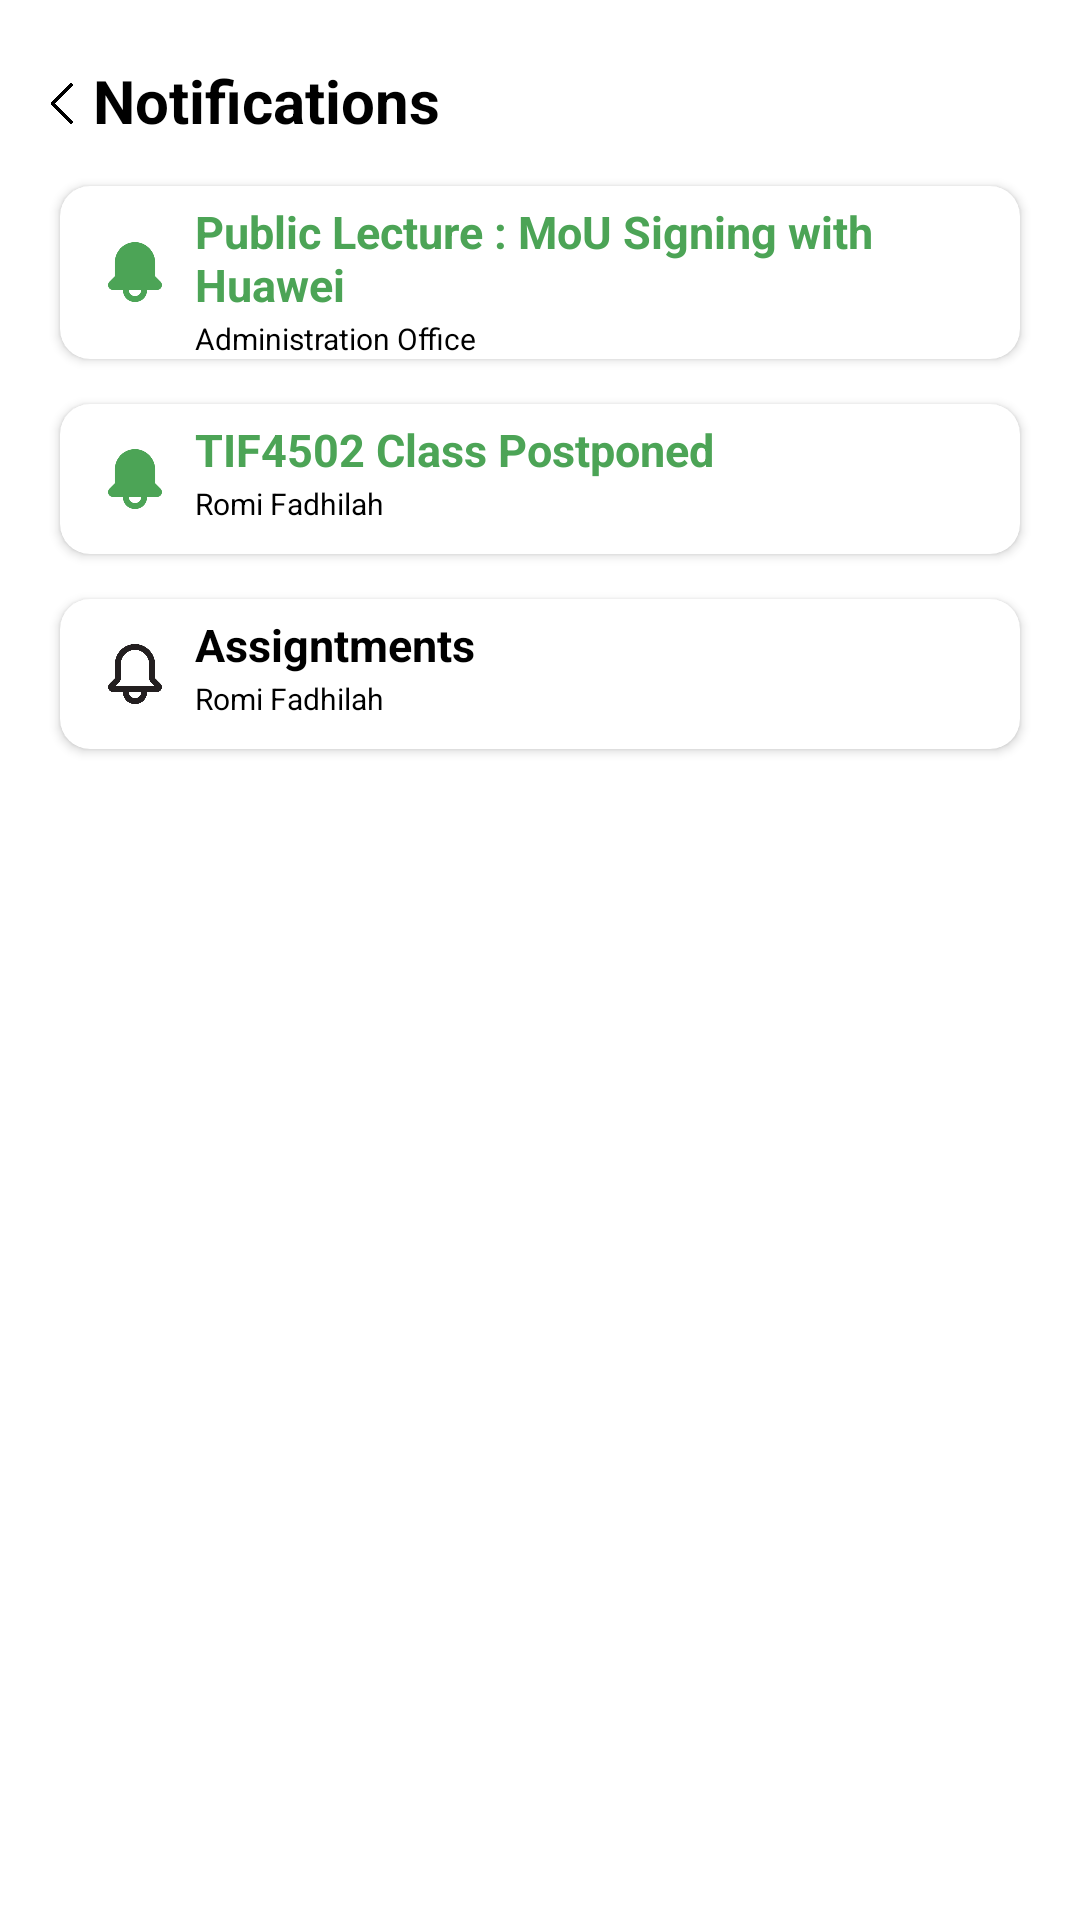

Where icons sit on this 1080x1920 app screen, as {"left": x1, "top": y1, "right": x2, "bottom": y2}:
back: {"left": 51, "top": 83, "right": 73, "bottom": 124}
bell: {"left": 108, "top": 242, "right": 162, "bottom": 302}, {"left": 108, "top": 449, "right": 162, "bottom": 509}, {"left": 108, "top": 644, "right": 162, "bottom": 704}
